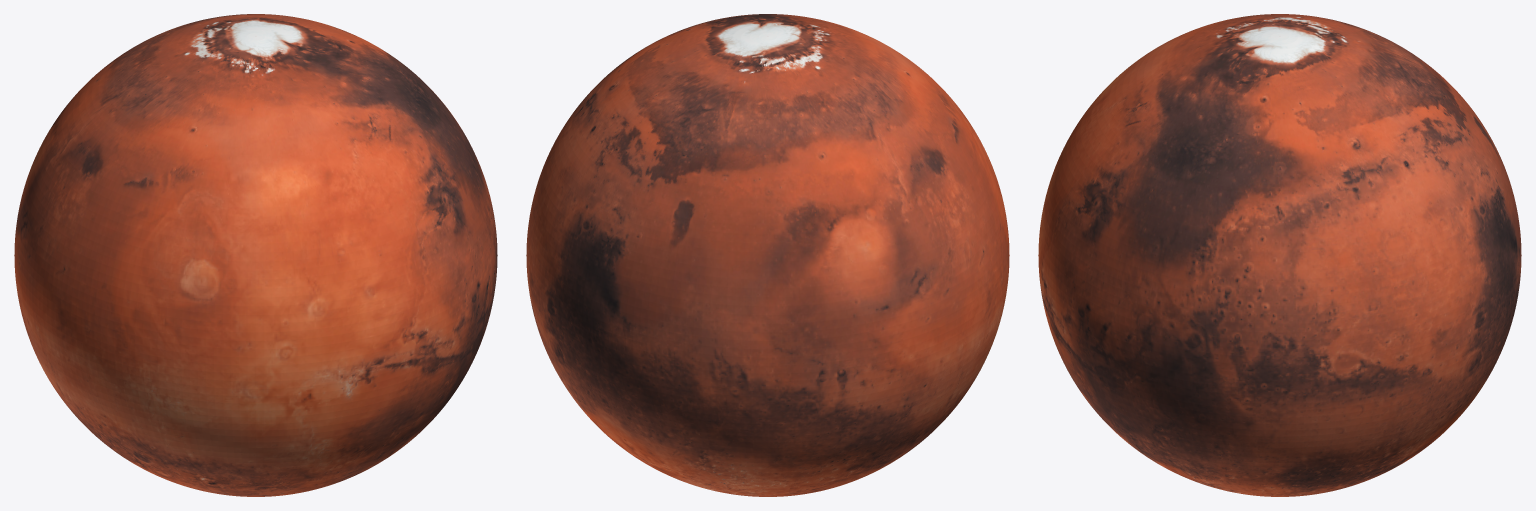
File: Martes.gltf
3 renders of one model, left to right at view 1: azimuth 30°, elevation 25°; view 2: azimuth 150°, elevation 25°; view 3: azimuth 270°, elevation 25°, orthographic.
Parts seen in each view (by area): view 1: Sphere; view 2: Sphere; view 3: Sphere.
Part boxes in pixels (x1,y1,x2,y2): Sphere: (14, 14, 497, 496); Sphere: (526, 14, 1009, 496); Sphere: (1038, 14, 1521, 496).
Bounding box in the file's own units: 1.54 × 1.54 × 1.54.
Materials: 1 (1 with a texture image).
